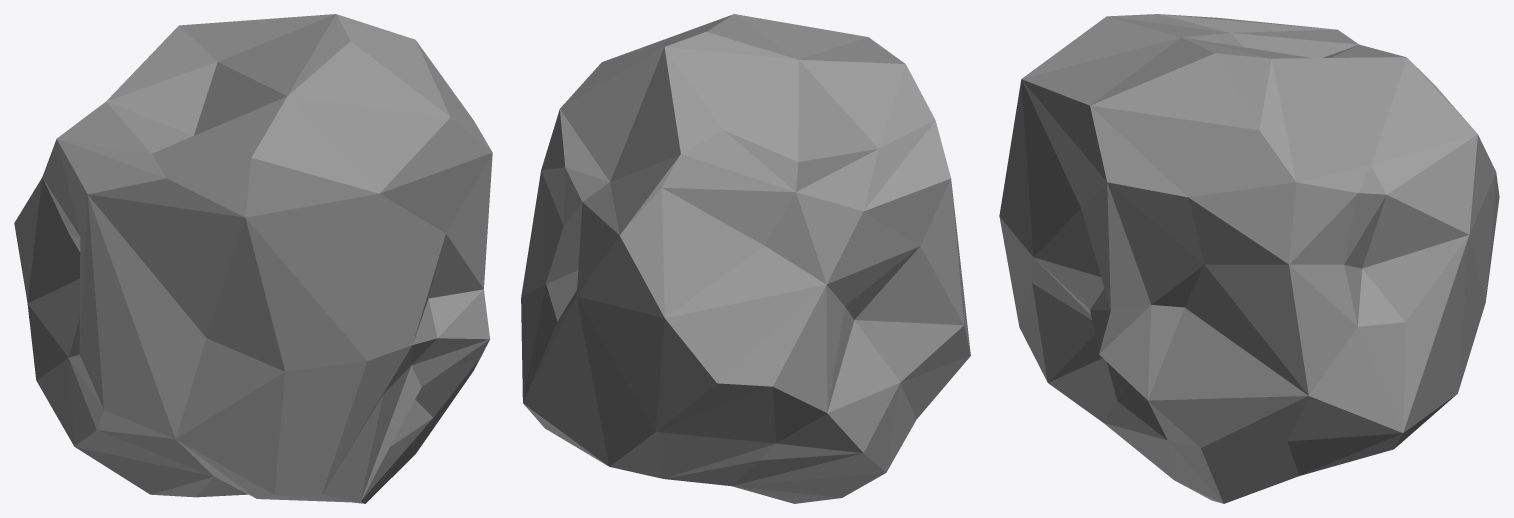
Rendered from smallRock.obj.
The picture shows the model from 3 angles, left to right: view 1: azimuth 30°, elevation 25°; view 2: azimuth 150°, elevation 25°; view 3: azimuth 270°, elevation 25°; orthographic projection. The views are drawn at different scales.
Visible parts, largest first — view 1: 立方体; view 2: 立方体; view 3: 立方体.
Boxes of the visible parts, x1,y1,x2,y2 form: 立方体: (14, 14, 492, 503); 立方体: (521, 14, 970, 503); 立方体: (999, 14, 1499, 503).
Size of the model in its own units: 5.53 by 5.66 by 5.9.
Materials: 1 (1 with a texture image).
